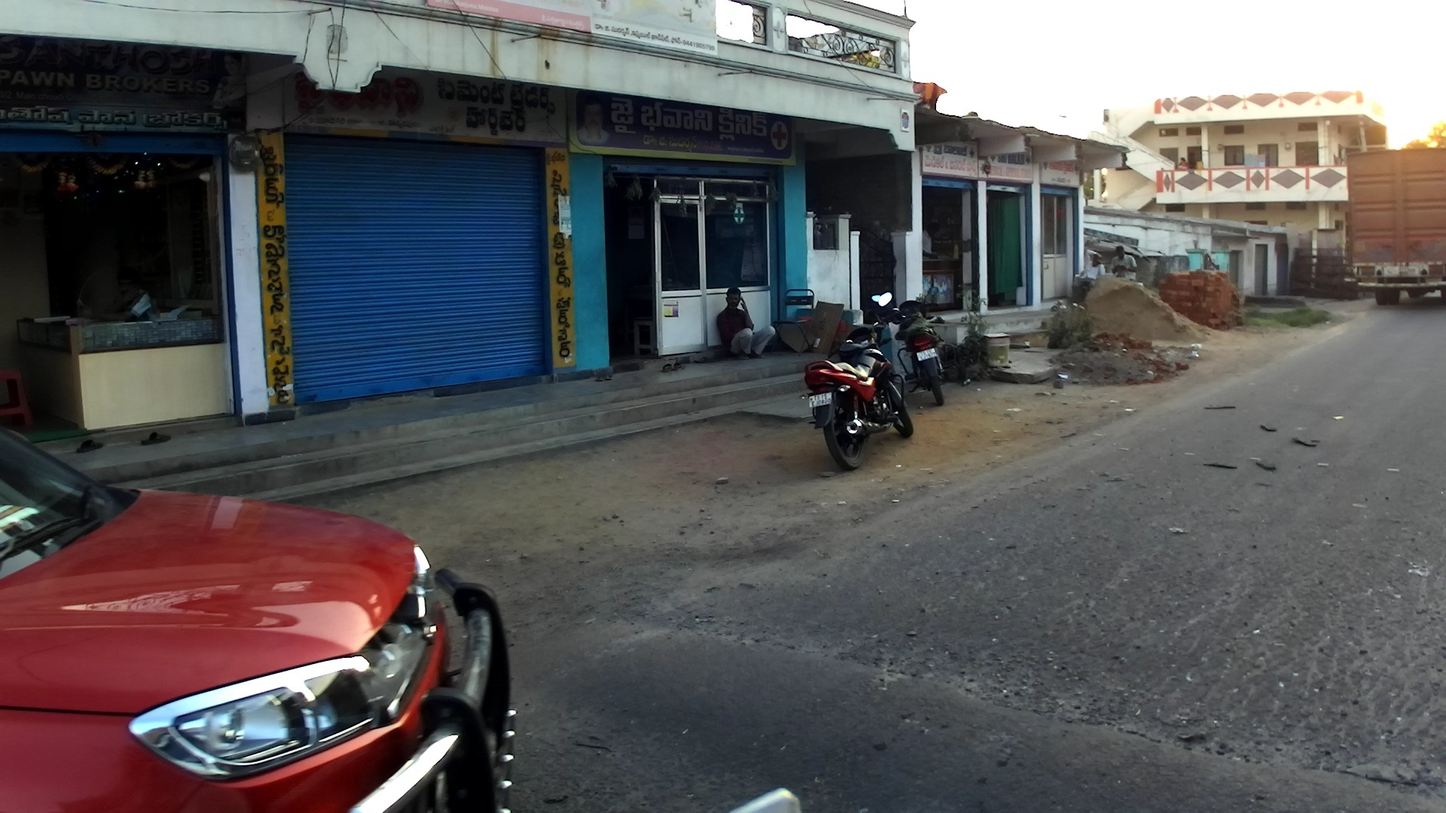car: (1, 428, 516, 813)
motorcycle: (798, 292, 914, 472), (872, 287, 959, 406)
person: (717, 286, 775, 360), (1111, 245, 1138, 283), (1083, 246, 1106, 283), (921, 220, 941, 261), (1178, 158, 1188, 170)
truck: (1345, 147, 1446, 306)
